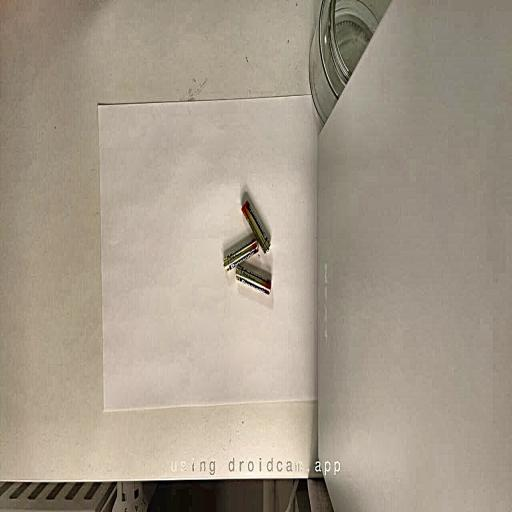PanasonicAAA: (241, 200, 270, 252), (224, 238, 258, 271), (236, 265, 271, 294)
